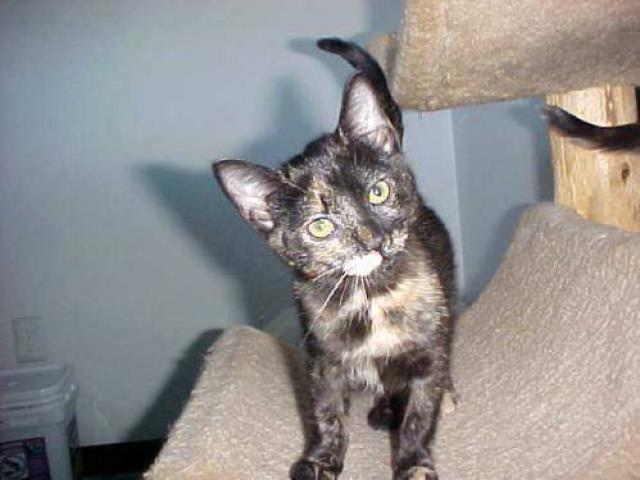cat: (207, 43, 458, 478)
